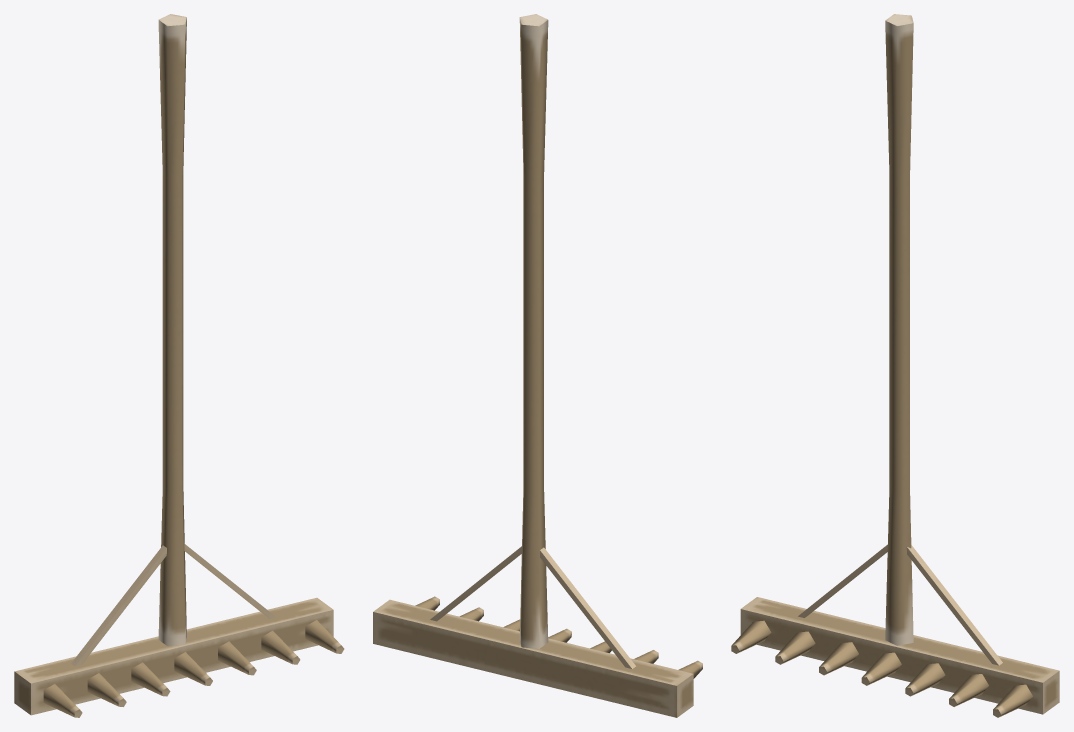
The model's file is SM_Rake.fbx.
3 renders of one model, left to right at view 1: azimuth 30°, elevation 25°; view 2: azimuth 150°, elevation 25°; view 3: azimuth 330°, elevation 25°, orthographic.
Visible parts, largest first — view 1: Rake; view 2: Rake; view 3: Rake.
Part boxes in pixels (<box>): Rake: <box>14,14,344,717</box>; Rake: <box>373,14,702,717</box>; Rake: <box>731,14,1059,717</box>.
Size of the model in its own units: 2.86 by 5.88 by 0.7037.
